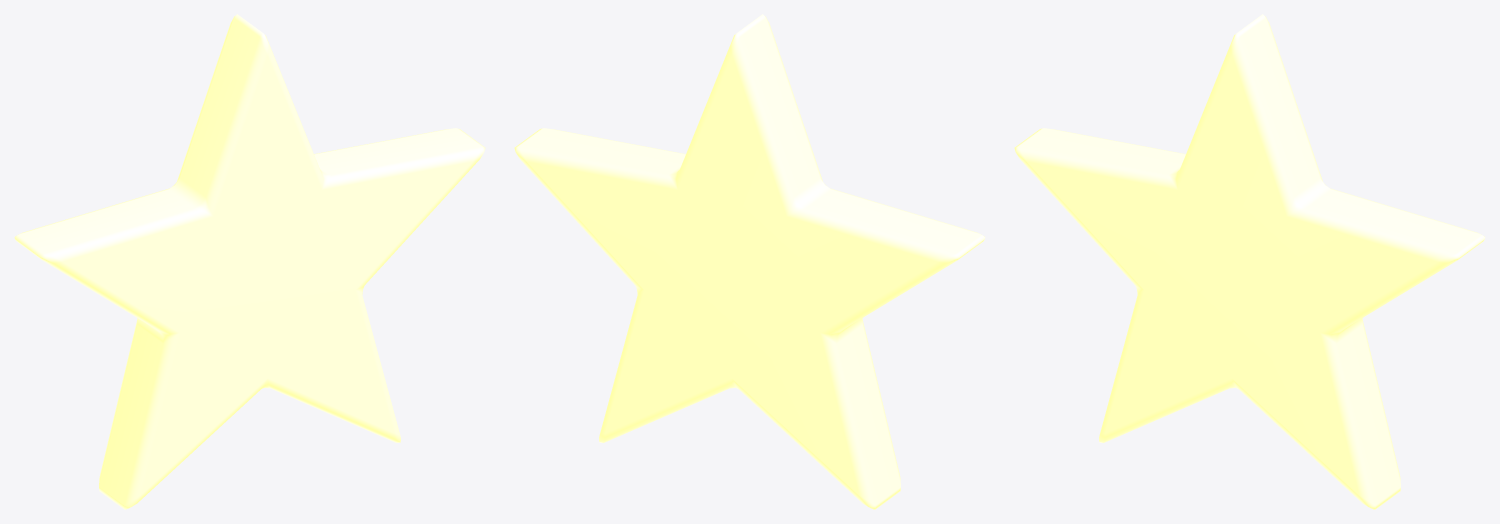
File: star.glb
The picture shows the model from 3 angles, left to right: view 1: azimuth 30°, elevation 25°; view 2: azimuth 150°, elevation 25°; view 3: azimuth 330°, elevation 25°; orthographic projection.
Visible parts, largest first — view 1: Star; view 2: Star; view 3: Star.
Boxes of the visible parts, x1,y1,x2,y2 form: Star: [14, 14, 485, 509]; Star: [514, 14, 985, 509]; Star: [1014, 14, 1485, 509].
Bounding box in the file's own units: 1.31 × 1.24 × 0.18.
